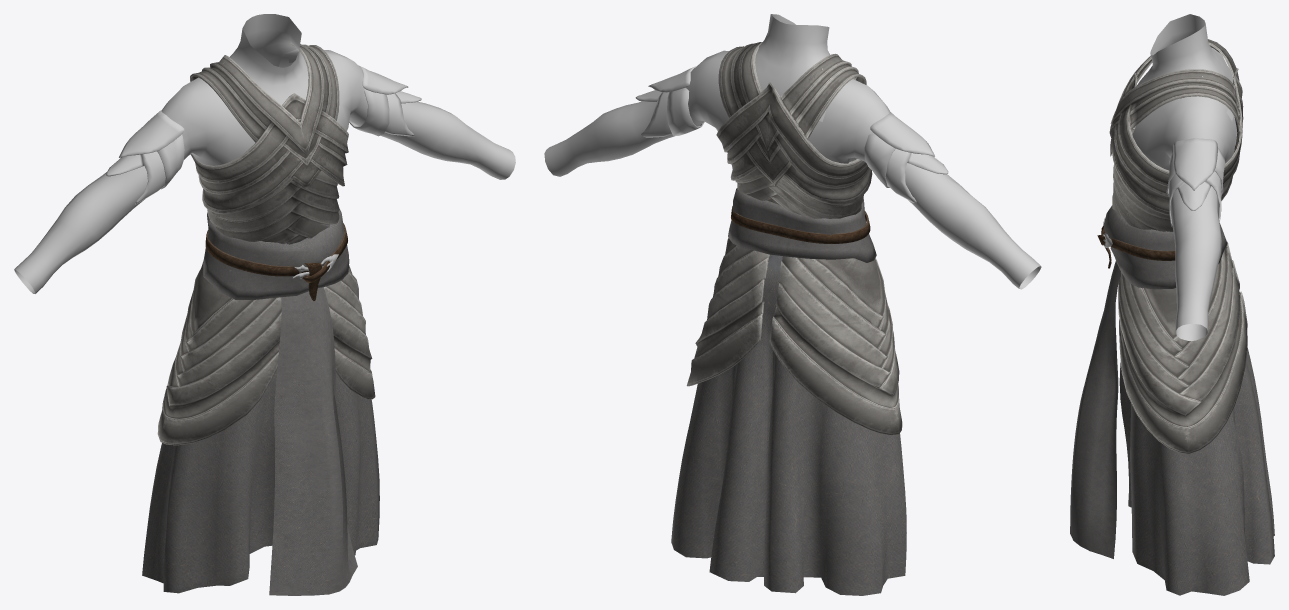
File: rivendell_torso_heavy_tier1_silver.fbx
3 renders of one model, left to right at view 1: azimuth 30°, elevation 25°; view 2: azimuth 150°, elevation 25°; view 3: azimuth 270°, elevation 25°, orthographic. The views are drawn at different scales.
Visible parts, largest first — view 1: rivendell_torso_heavy_tier1_silver.4, rivendell_torso_heavy_tier1_silver.0, rivendell_torso_heavy_tier1_silver.5, rivendell_torso_heavy_tier1_silver.3, rivendell_torso_heavy_tier1_silver.1, rivendell_torso_heavy_tier1_silver.6, rivendell_torso_heavy_tier1_silver.2; view 2: rivendell_torso_heavy_tier1_silver.0, rivendell_torso_heavy_tier1_silver.3, rivendell_torso_heavy_tier1_silver.5, rivendell_torso_heavy_tier1_silver.1, rivendell_torso_heavy_tier1_silver.4, rivendell_torso_heavy_tier1_silver.6, rivendell_torso_heavy_tier1_silver.2; view 3: rivendell_torso_heavy_tier1_silver.0, rivendell_torso_heavy_tier1_silver.3, rivendell_torso_heavy_tier1_silver.5, rivendell_torso_heavy_tier1_silver.4, rivendell_torso_heavy_tier1_silver.1, rivendell_torso_heavy_tier1_silver.6, rivendell_torso_heavy_tier1_silver.2.
Boxes of the visible parts, x1,y1,x2,y2 form: rivendell_torso_heavy_tier1_silver.4: (203, 209, 357, 595); rivendell_torso_heavy_tier1_silver.0: (142, 269, 379, 593); rivendell_torso_heavy_tier1_silver.5: (14, 14, 515, 293); rivendell_torso_heavy_tier1_silver.3: (157, 262, 375, 445); rivendell_torso_heavy_tier1_silver.1: (190, 43, 348, 214); rivendell_torso_heavy_tier1_silver.6: (106, 65, 421, 204); rivendell_torso_heavy_tier1_silver.2: (207, 170, 339, 244); rivendell_torso_heavy_tier1_silver.0: (671, 235, 906, 595); rivendell_torso_heavy_tier1_silver.3: (686, 238, 902, 434); rivendell_torso_heavy_tier1_silver.5: (544, 14, 1041, 289); rivendell_torso_heavy_tier1_silver.1: (716, 42, 872, 204); rivendell_torso_heavy_tier1_silver.4: (728, 188, 876, 262); rivendell_torso_heavy_tier1_silver.6: (635, 66, 948, 202); rivendell_torso_heavy_tier1_silver.2: (735, 168, 863, 218); rivendell_torso_heavy_tier1_silver.0: (1119, 347, 1274, 595); rivendell_torso_heavy_tier1_silver.3: (1118, 241, 1247, 453); rivendell_torso_heavy_tier1_silver.5: (1132, 14, 1236, 340); rivendell_torso_heavy_tier1_silver.4: (1070, 205, 1227, 558); rivendell_torso_heavy_tier1_silver.1: (1109, 39, 1243, 215); rivendell_torso_heavy_tier1_silver.6: (1166, 138, 1225, 226); rivendell_torso_heavy_tier1_silver.2: (1112, 132, 1237, 231).
Bounding box in the file's own units: 1.38 × 0.5129 × 1.46.
